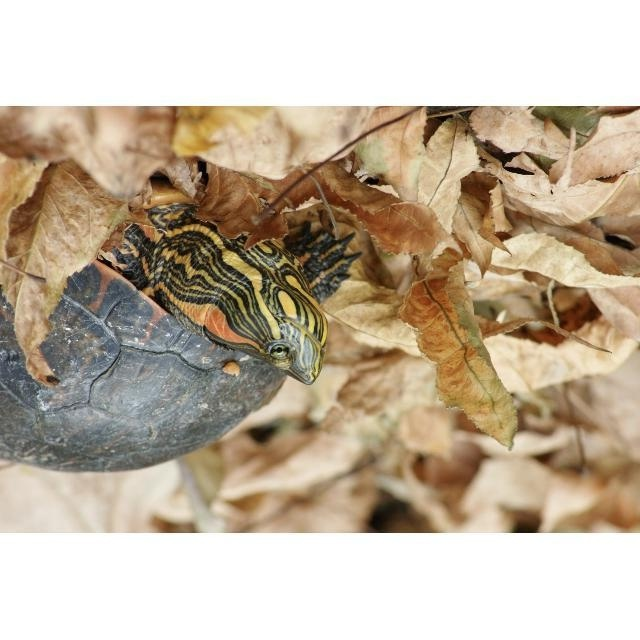turtle: (1, 185, 364, 475)
